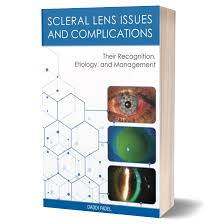book: (39, 6, 176, 218)
